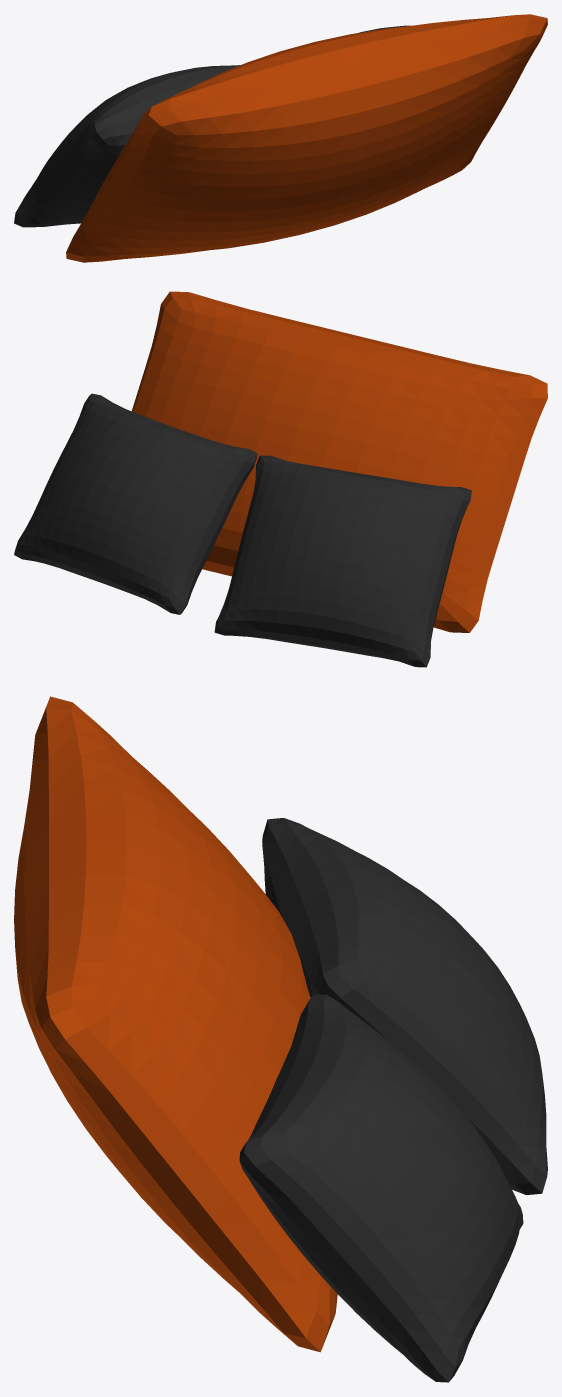
Rendered from bantalBed.obj.
3 renders of one model, top to bottom at view 1: azimuth 30°, elevation 25°; view 2: azimuth 150°, elevation 25°; view 3: azimuth 270°, elevation 25°, orthographic. The views are drawn at different scales.
Visible parts, largest first — view 1: Pillow_Cube.012; view 2: Pillow_Cube.012; view 3: Pillow_Cube.012.
Part boxes in pixels (x1,y1,x2,y2): Pillow_Cube.012: (14, 14, 547, 262); Pillow_Cube.012: (14, 291, 547, 667); Pillow_Cube.012: (14, 696, 547, 1382).
Size of the model in its own units: 1.4 by 0.6584 by 0.8756.
